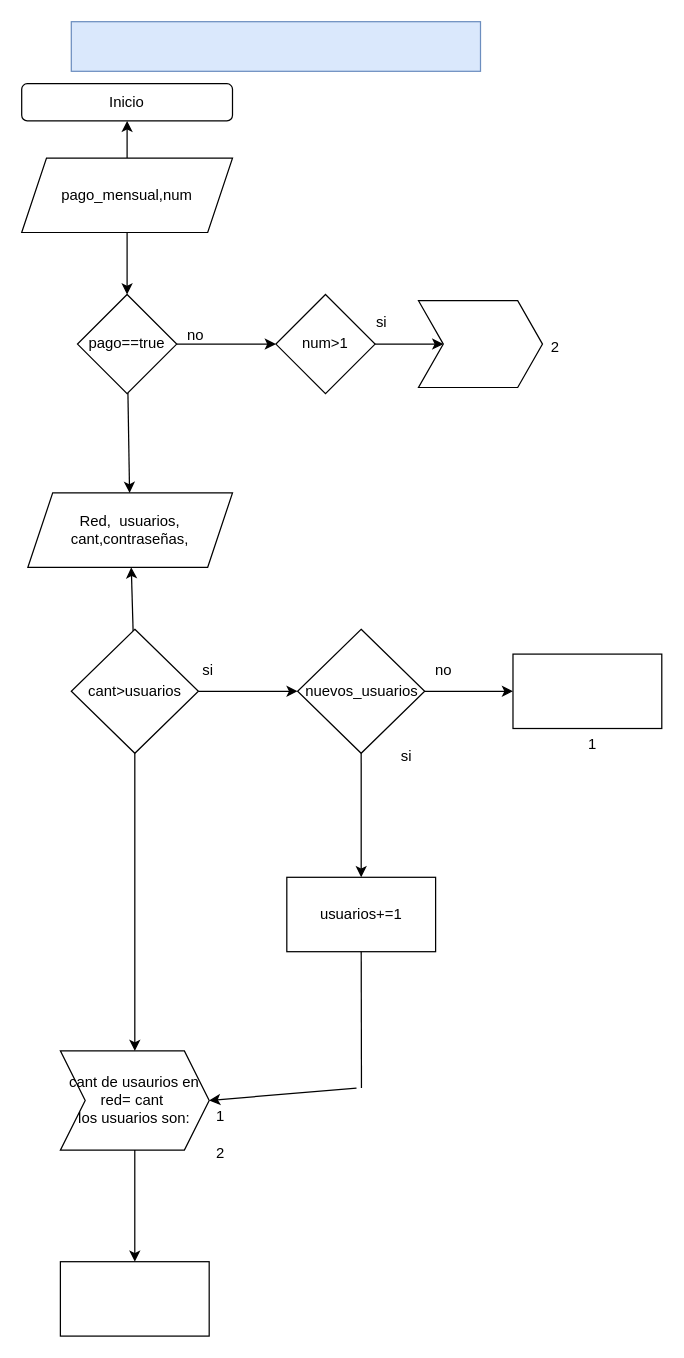
This 684x1358 diagram has some shape labels left out. The centre of each missing label's shape, as x and y in pixels:
"Porfavor pague": (479,343)
cant=usuarios: (587,690)
Diagrama de flujo para aplicacion para auditoria de redes: (275,45)
fin: (134,1298)
